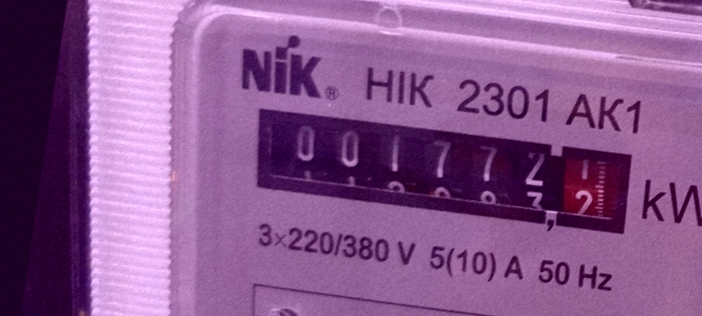0: (290, 120, 323, 164), (337, 126, 365, 168)
1: (385, 132, 407, 173), (578, 156, 594, 183)
2: (522, 150, 550, 189), (570, 186, 597, 217)
3: (524, 188, 548, 212)
7: (428, 137, 456, 181), (474, 143, 501, 184)
screen: (236, 88, 655, 254)
